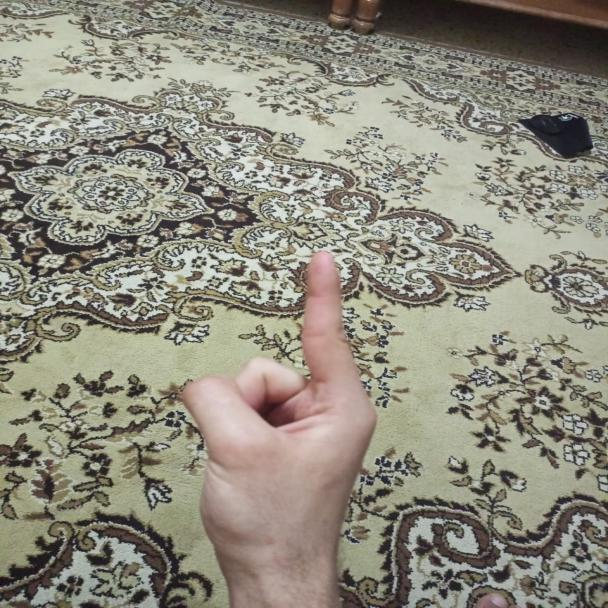one: (168, 239, 394, 594)
